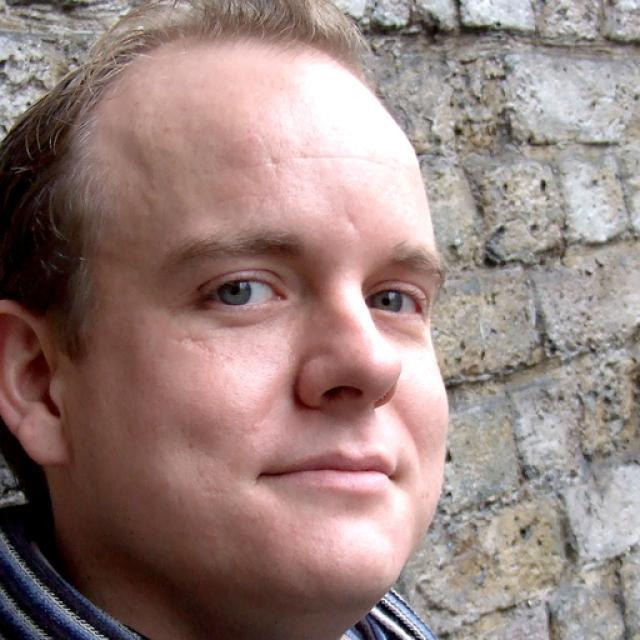content: (76, 55, 450, 594)
